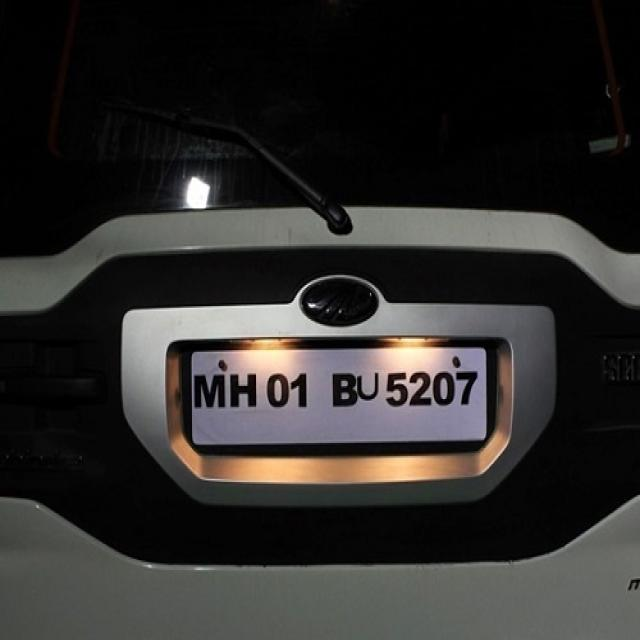number_plate: (190, 352, 482, 436)
